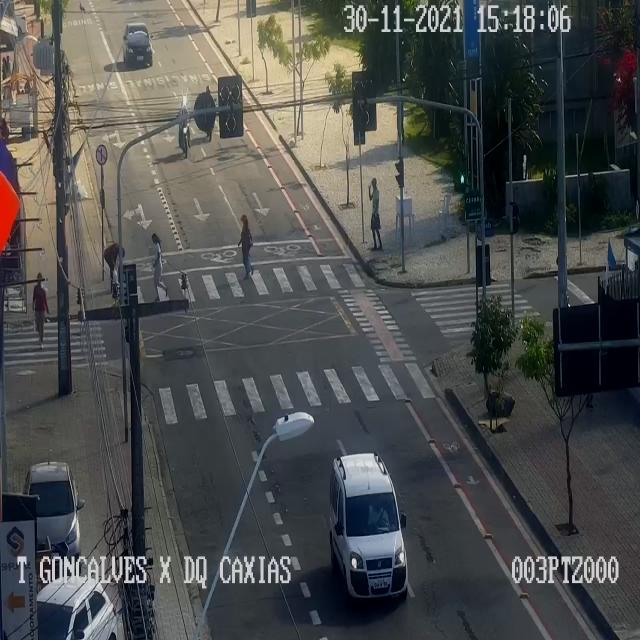Car: (329, 452, 407, 598), (24, 462, 80, 572), (36, 576, 116, 639), (122, 22, 152, 64)
Motorcycle: (178, 96, 190, 157), (204, 86, 216, 140)
